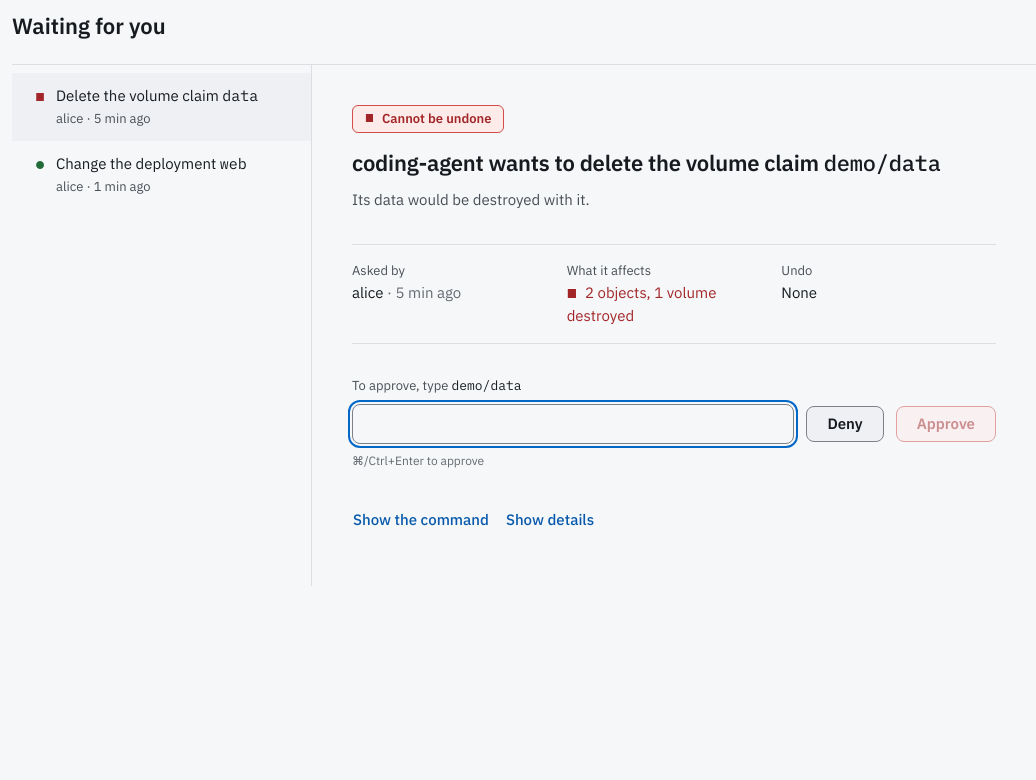
Test: Waiting › after a decision the next request is chosen and focused
Expected: the number of options is 2, [12,72,311,140]; [35,152,247,195]
Expected: the text "None" is shown, [781,283,817,302]
What coordinates should you click on to do the following:
click the button "Deny"
I would click on:
 (845, 424)
Its box is [806,406,884,442].
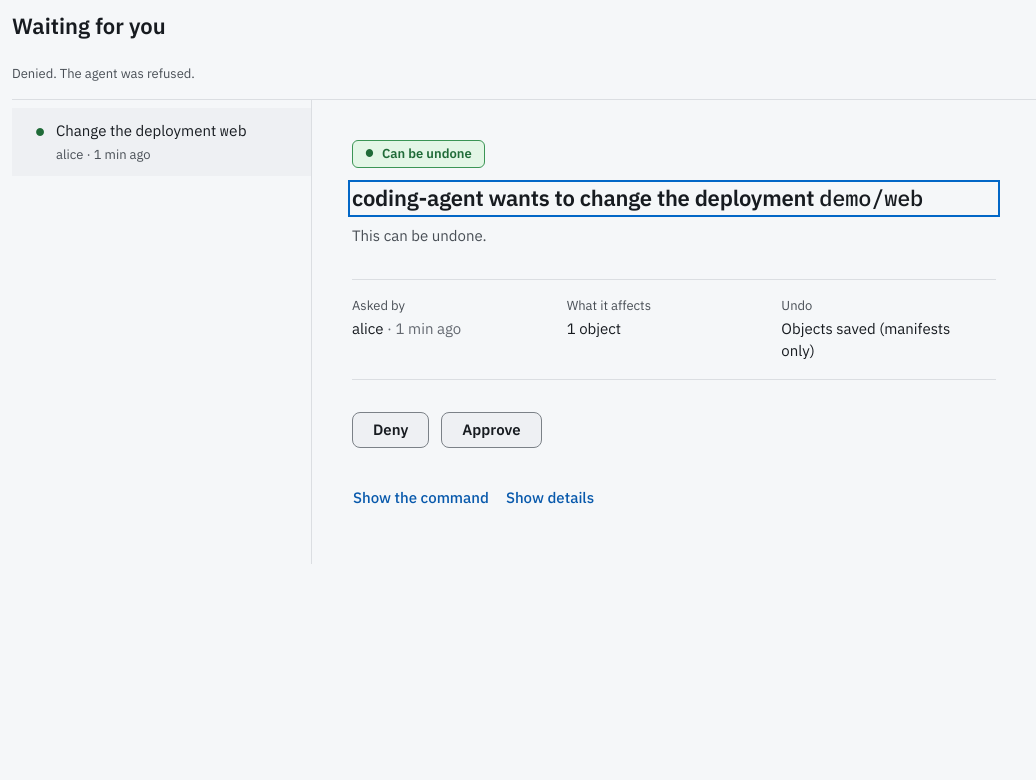
Expected: the number of options is 1, [12,108,311,176]
Result: the heading "coding-agent wants to change the deployment demo/web" is shown at [352,184,996,213]
Result: the text "Denied. The agent was refused." is shown at [12,64,195,82]
